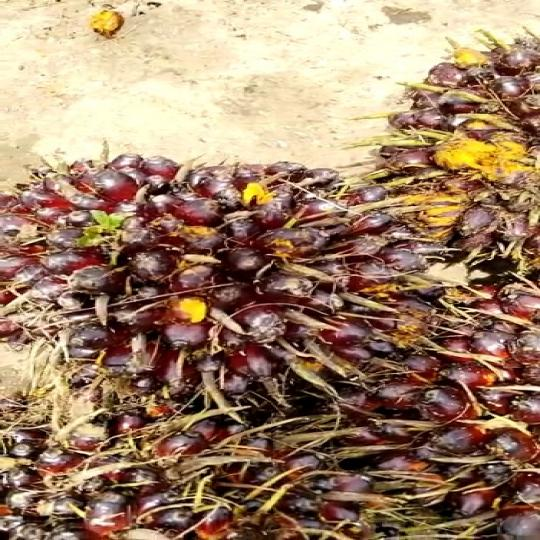kurang masak: (0, 146, 414, 408), (0, 416, 423, 536), (366, 48, 540, 277)
